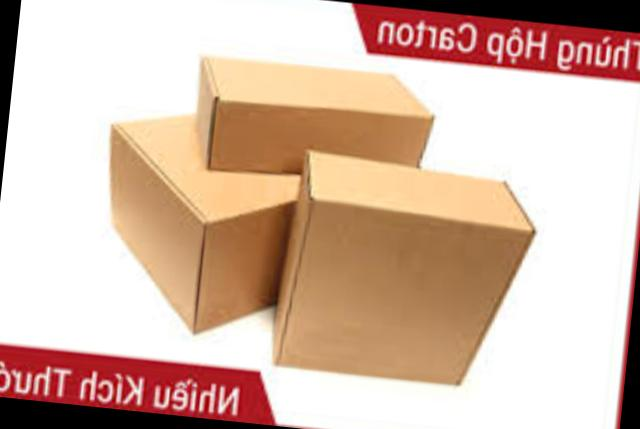cardboard paper: (279, 149, 537, 379), (114, 113, 303, 327), (200, 54, 436, 169)
